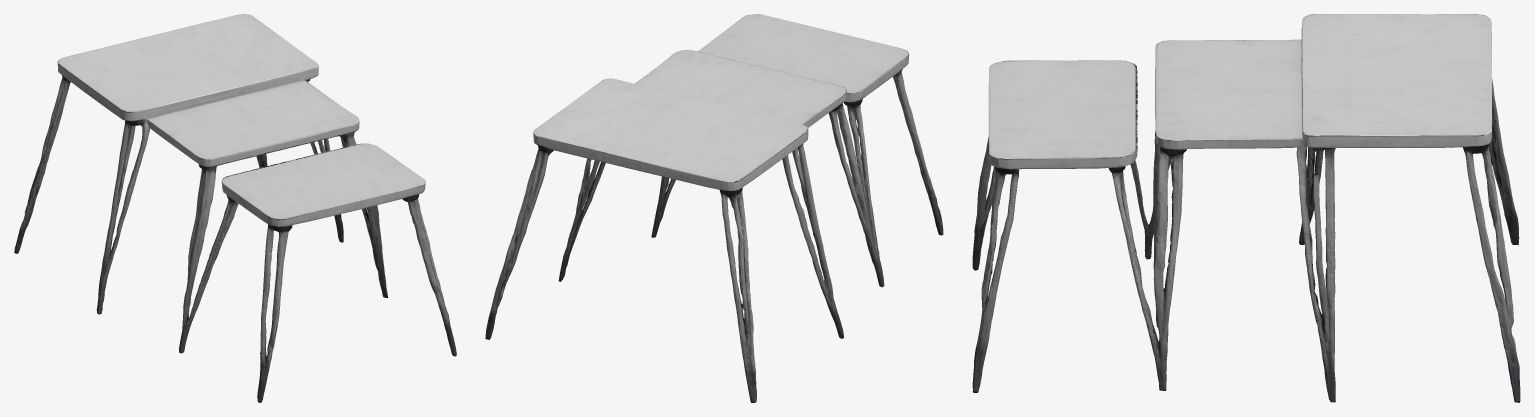
Rendered from ct330_coffee_table_3_layer_rectangle.glb.
The picture shows the model from 3 angles, left to right: view 1: azimuth 30°, elevation 25°; view 2: azimuth 150°, elevation 25°; view 3: azimuth 270°, elevation 25°; orthographic projection. The views are drawn at different scales.
Parts seen in each view (by area): view 1: world; view 2: world; view 3: world.
Part boxes in pixels (x1,y1,x2,y2): world: (14, 14, 456, 402); world: (485, 14, 943, 402); world: (972, 14, 1520, 402).
Bounding box in the file's own units: 0.6951 × 0.5111 × 0.9998.
1 material, 1 textured.
